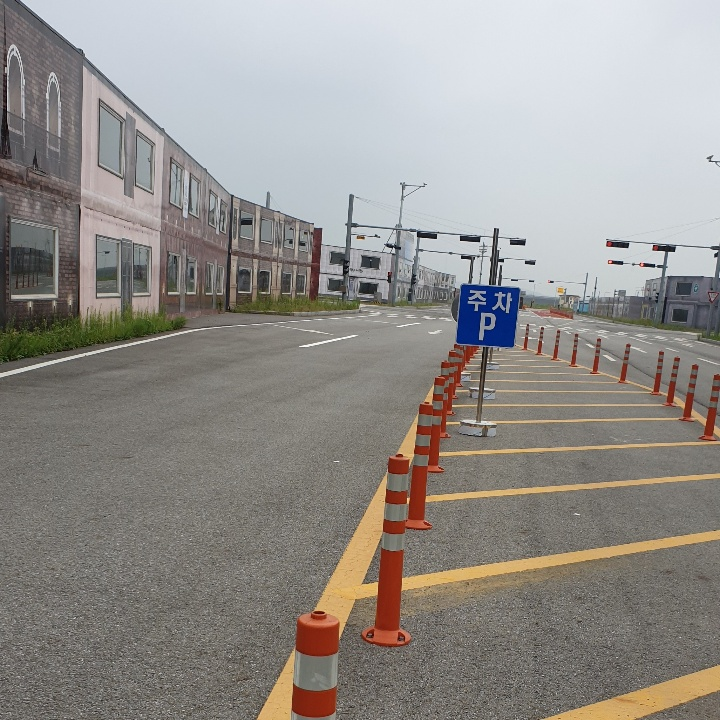parking: (473, 303, 502, 344)
